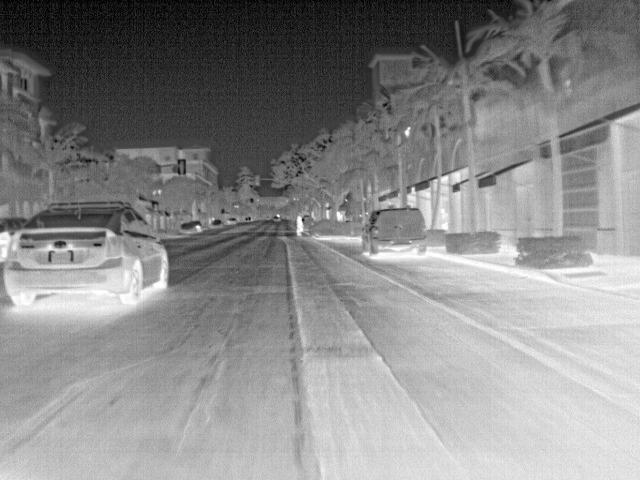car: (3, 204, 169, 306), (361, 205, 431, 258), (178, 219, 197, 238), (189, 222, 204, 234), (209, 218, 223, 230), (225, 215, 238, 226)
person: (291, 214, 304, 236)
